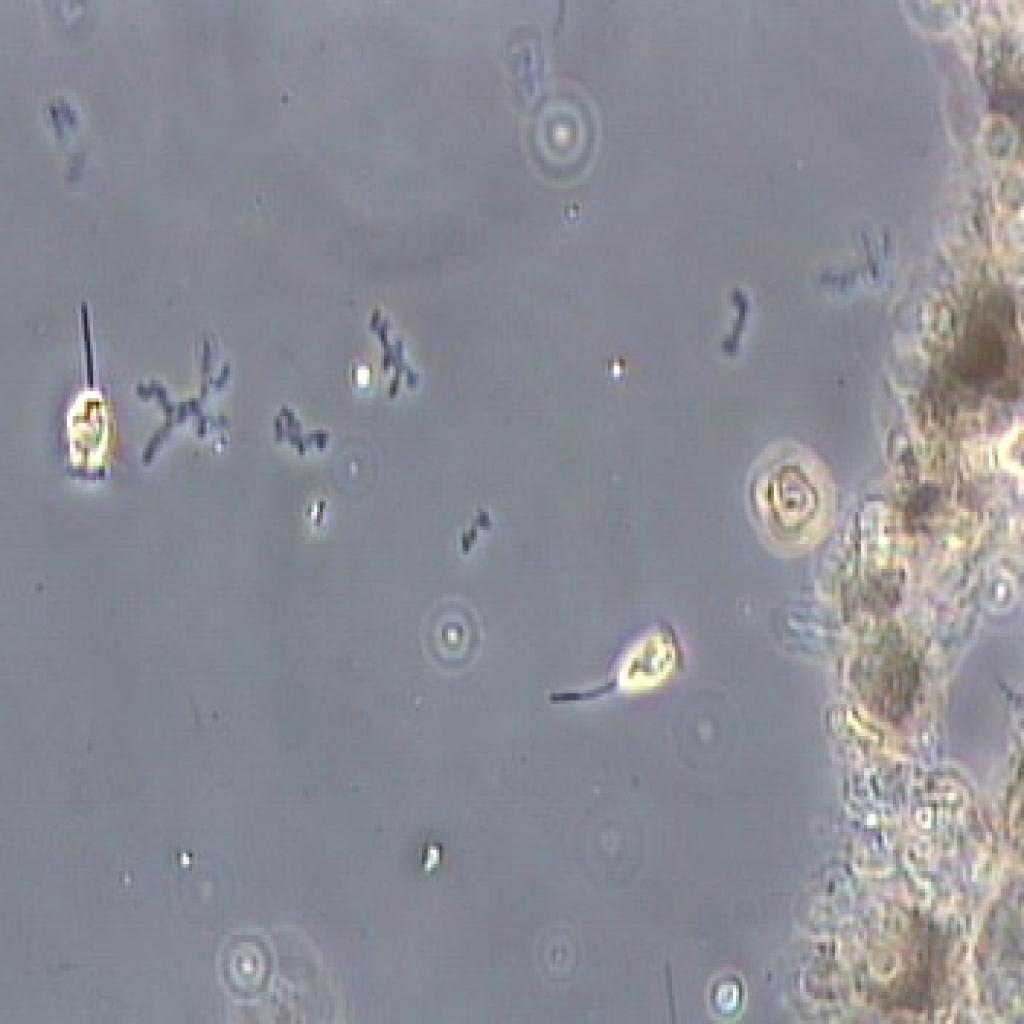Vorticella: (525, 610, 700, 724)
